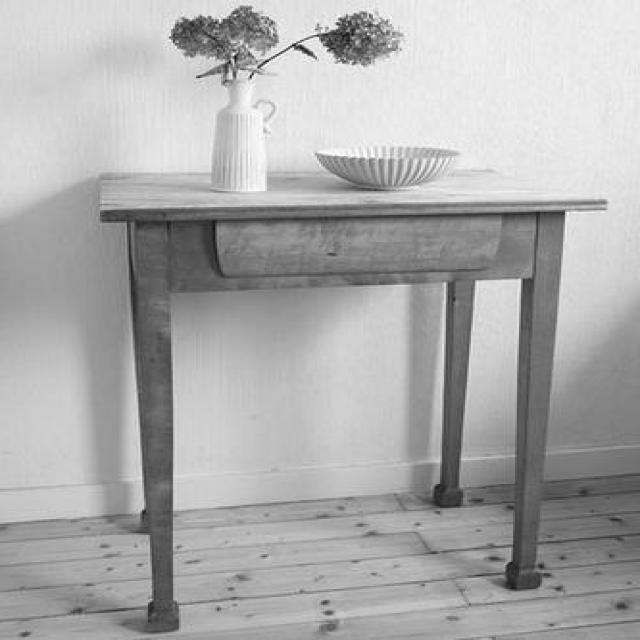table: (97, 159, 601, 626)
